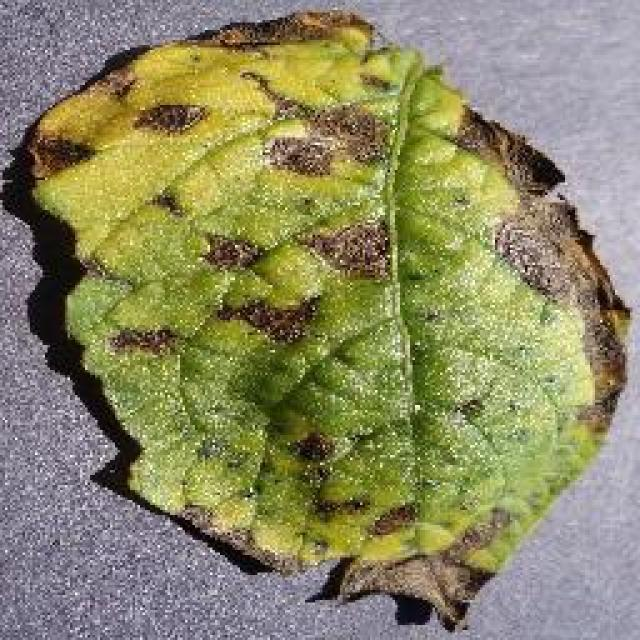Potato___Early_blight: (19, 7, 636, 635)
